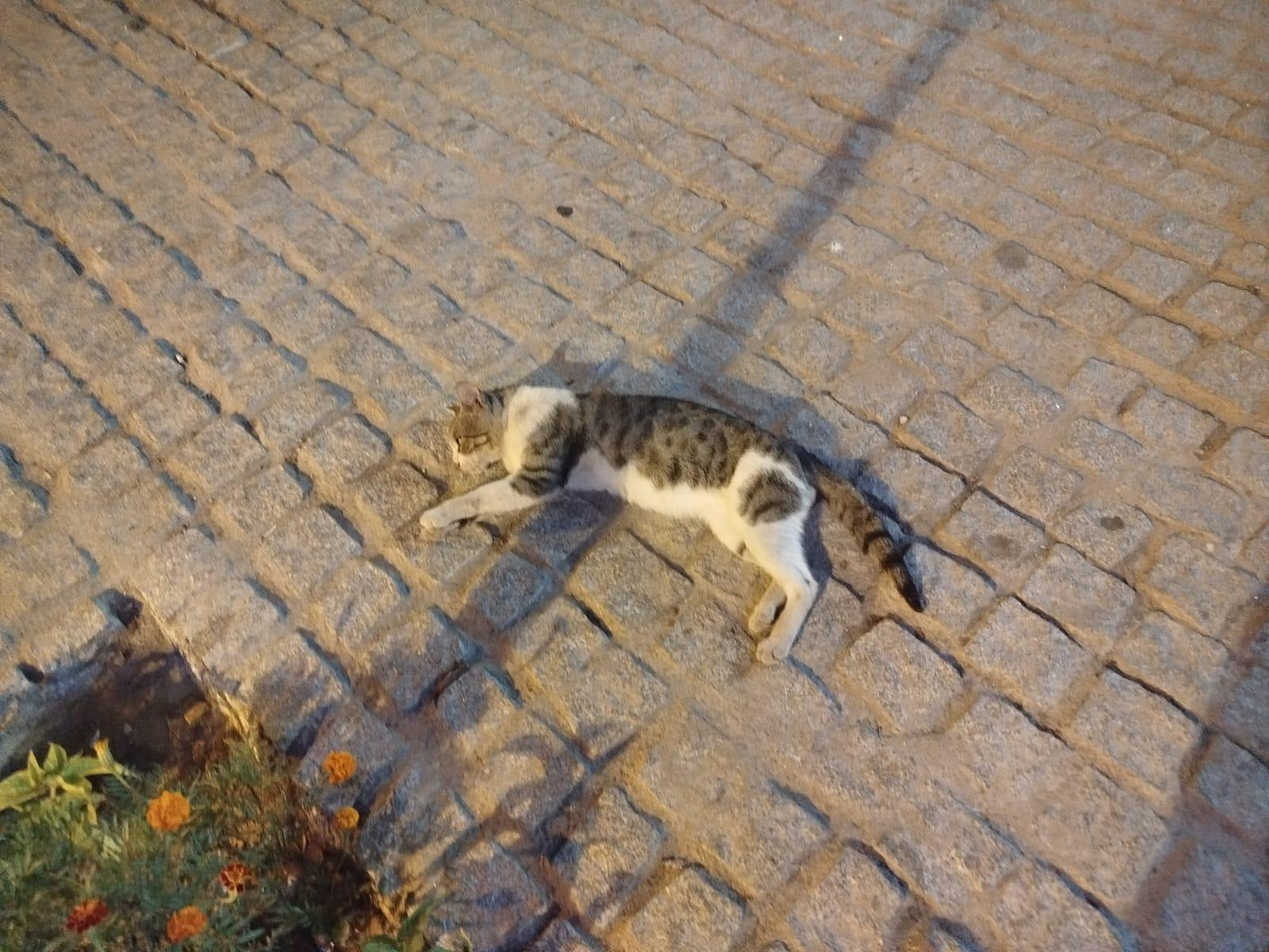macka: (417, 380, 926, 665)
